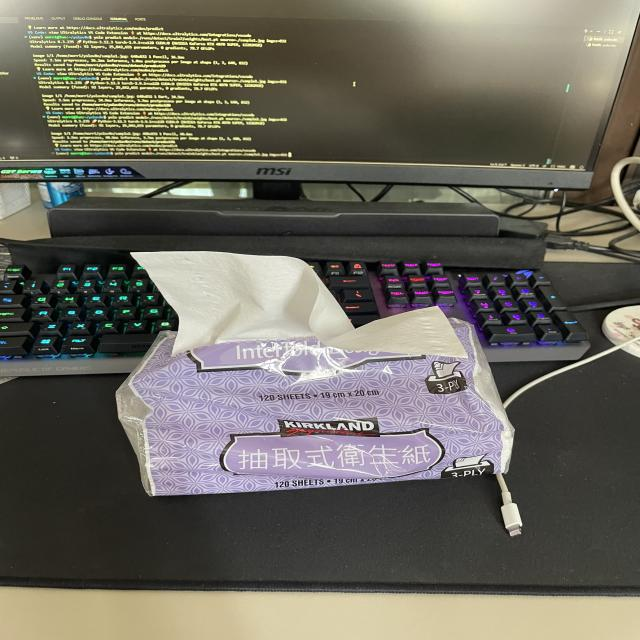tissue: (107, 247, 520, 500)
